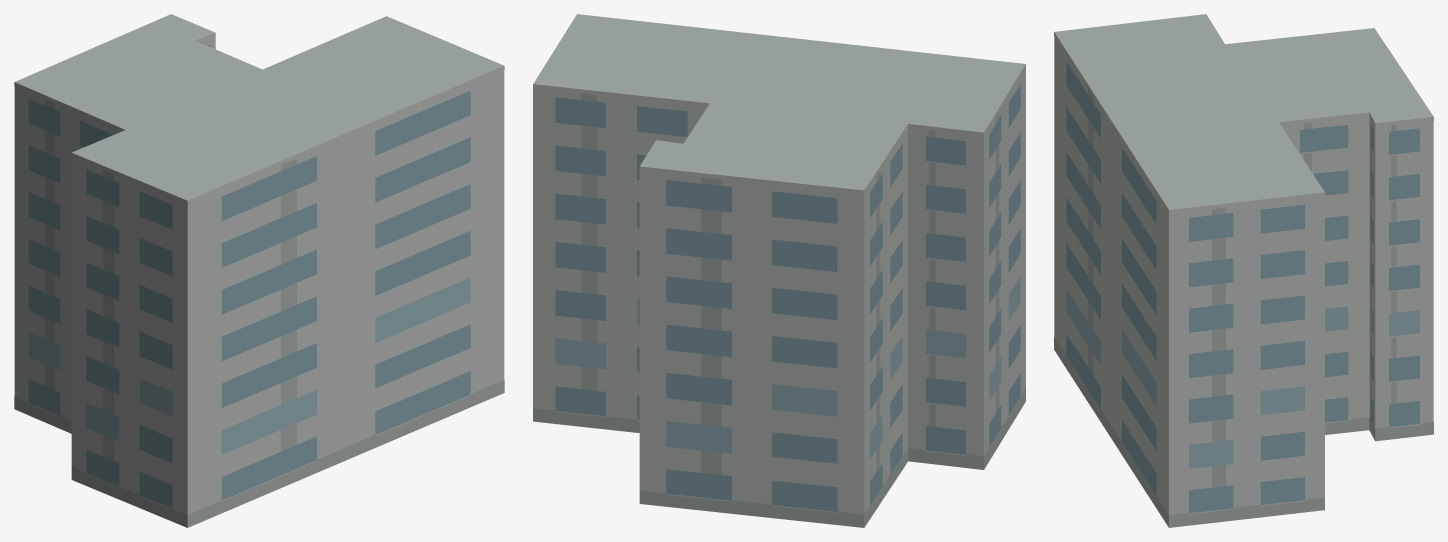
The model's file is survey-upis-32644153.glb.
The picture shows the model from 3 angles, left to right: view 1: azimuth 30°, elevation 25°; view 2: azimuth 150°, elevation 25°; view 3: azimuth 270°, elevation 25°; orthographic projection. The views are drawn at different scales.
Parts seen in each view (by area): view 1: survey-upis-32644153.tmp; view 2: survey-upis-32644153.tmp; view 3: survey-upis-32644153.tmp.
Part boxes in pixels (left/top/right/bottom): survey-upis-32644153.tmp: left=14, top=14, right=504, bottom=527; survey-upis-32644153.tmp: left=533, top=14, right=1025, bottom=527; survey-upis-32644153.tmp: left=1054, top=14, right=1433, bottom=527.
Bounding box in the file's own units: 24.88 × 18.8 × 20.36.
